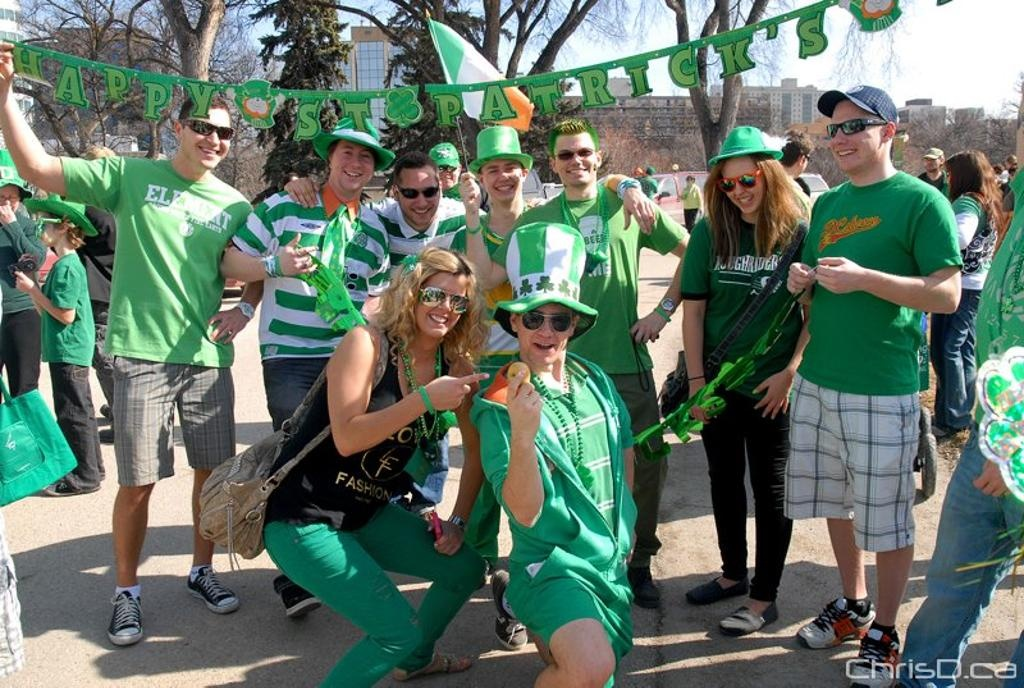human_face: (826, 99, 878, 172), (415, 270, 469, 338), (517, 303, 573, 365), (184, 108, 232, 170), (720, 157, 764, 215), (398, 167, 438, 225), (332, 139, 374, 192), (554, 134, 594, 186), (482, 153, 522, 203), (29, 208, 61, 246), (1012, 99, 1024, 167), (432, 161, 458, 192), (0, 186, 20, 222), (943, 165, 957, 198), (798, 151, 810, 175), (33, 188, 49, 205), (922, 156, 938, 170), (1009, 170, 1017, 182), (1003, 158, 1011, 170), (685, 176, 693, 186), (634, 167, 640, 175), (642, 166, 646, 174)
